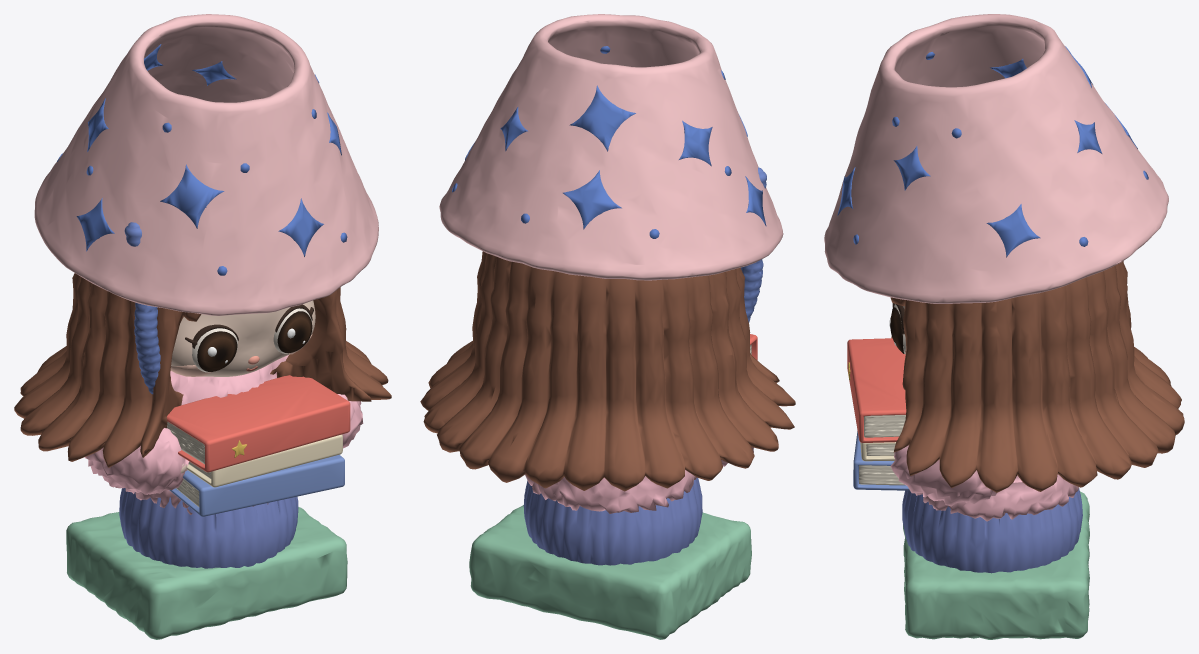
The model's file is nightlight_roblox.glb.
3 renders of one model, left to right at view 1: azimuth 30°, elevation 25°; view 2: azimuth 150°, elevation 25°; view 3: azimuth 270°, elevation 25°, orthographic.
Parts seen in each view (by area): view 1: Nightlight_Lampshade, Nightlight_Hair, Nightlight_Base, Nightlight_RedBook, Nightlight_Dress, Nightlight_Cardigan, Nightlight_ShadeStars, Nightlight_BlueBook, Nightlight_Head, Nightlight_CreamBook, Nightlight_Iris, Nightlight_Cord (+3 smaller); view 2: Nightlight_Hair, Nightlight_Lampshade, Nightlight_Base, Nightlight_Dress, Nightlight_ShadeStars, Nightlight_Cardigan, Nightlight_Cord; view 3: Nightlight_Lampshade, Nightlight_Hair, Nightlight_Base, Nightlight_Dress, Nightlight_Cardigan, Nightlight_RedBook, Nightlight_ShadeStars, Nightlight_Pages, Nightlight_BlueBook.
Part boxes in pixels (x1,y1,x2,y2): Nightlight_Lampshade: (34, 14, 378, 315); Nightlight_Hair: (14, 273, 391, 467); Nightlight_Base: (66, 507, 347, 639); Nightlight_RedBook: (167, 375, 350, 472); Nightlight_Dress: (119, 488, 298, 568); Nightlight_Cardigan: (84, 355, 363, 514); Nightlight_ShadeStars: (57, 44, 347, 275); Nightlight_BlueBook: (169, 454, 344, 516); Nightlight_Head: (171, 300, 315, 376); Nightlight_CreamBook: (186, 434, 342, 487); Nightlight_Iris: (197, 311, 312, 371); Nightlight_Cord: (124, 222, 160, 394); Nightlight_Hair: (420, 251, 795, 491); Nightlight_Lampshade: (439, 14, 783, 280); Nightlight_Base: (469, 505, 751, 639); Nightlight_Dress: (523, 477, 702, 565); Nightlight_ShadeStars: (452, 46, 766, 238); Nightlight_Cardigan: (525, 447, 753, 513); Nightlight_Cord: (741, 167, 766, 322); Nightlight_Lampshade: (824, 14, 1168, 303); Nightlight_Hair: (890, 261, 1184, 492); Nightlight_Base: (903, 491, 1089, 639); Nightlight_Dress: (902, 488, 1082, 573); Nightlight_Cardigan: (890, 445, 1078, 521); Nightlight_RedBook: (847, 338, 906, 442); Nightlight_ShadeStars: (837, 46, 1148, 257); Nightlight_Pages: (859, 415, 905, 485); Nightlight_BlueBook: (853, 431, 909, 490).
Bounding box in the file's own units: 2.17 × 3.43 × 2.02.
Materials: 23 (23 with a texture image).
